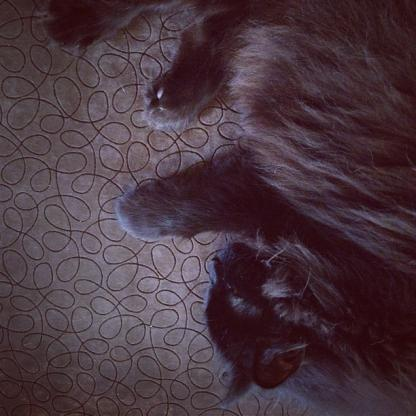Target: (43, 0, 416, 416)
